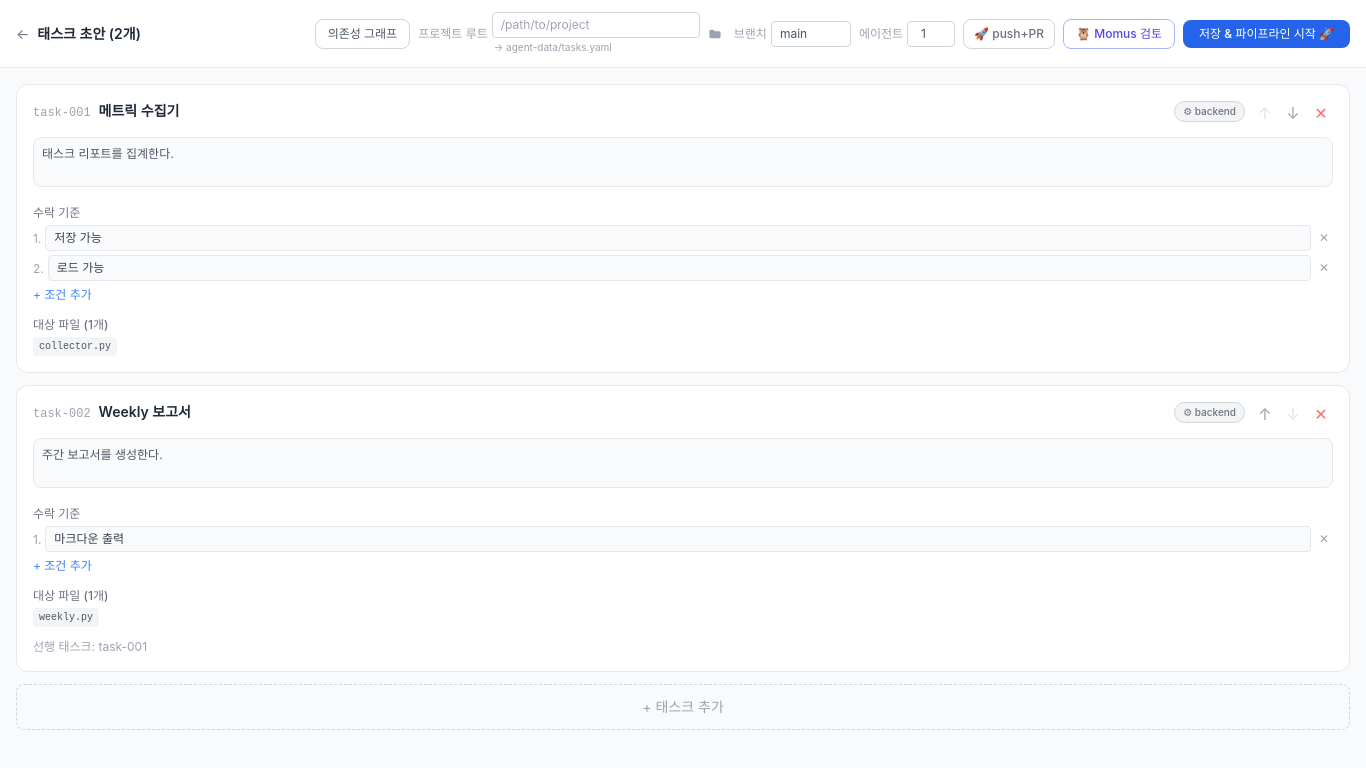
TaskDraftPanel › NEEDS_REVISION 시 task_id에 해당하는 태스크 카드 아래 이슈가 표시되어야 한다
The width and height of the screenshot is (1366, 768).
Click the button "🦉 Momus 검토": (1119, 34) [1063,18,1175,48]
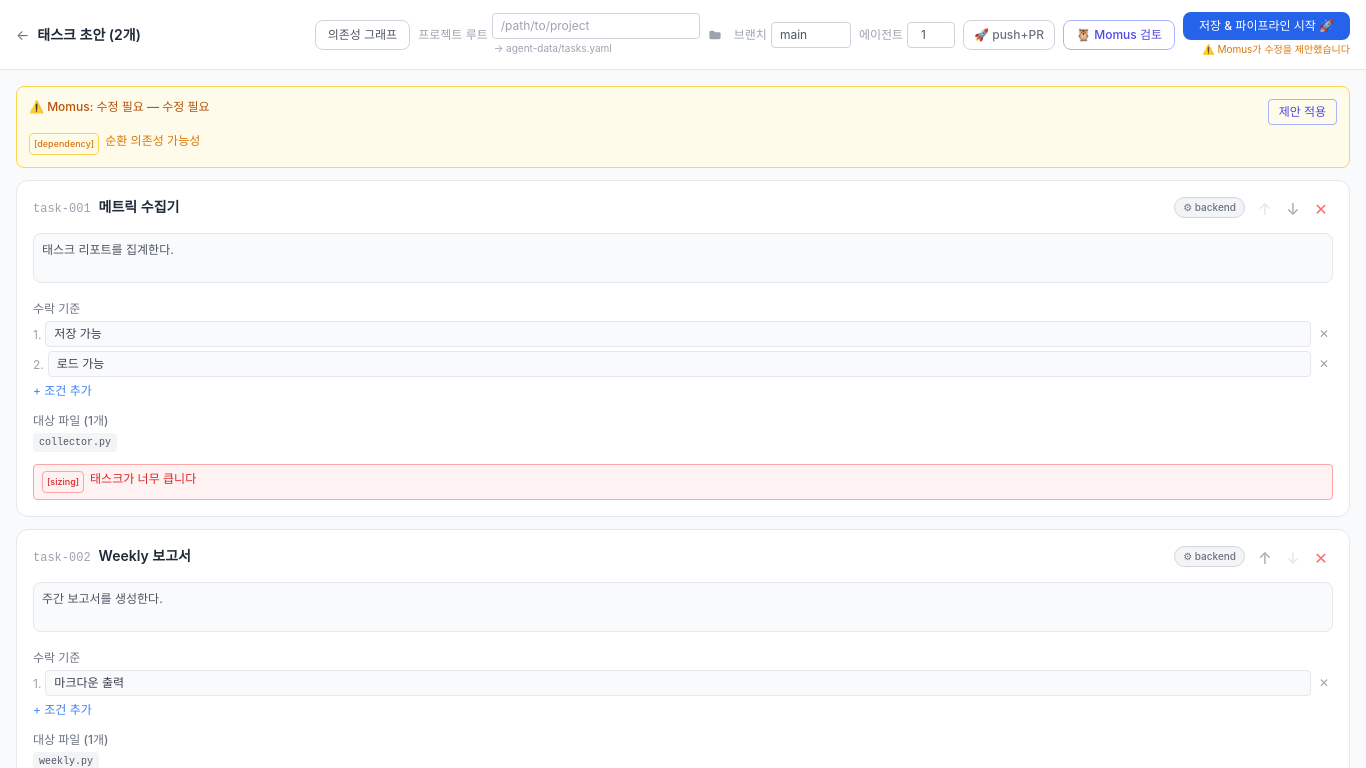
Now the text "태스크가 너무 큽니다" is shown, box [90,471,196,487]
Now the text "[sizing]" is shown, box [42,471,84,493]
